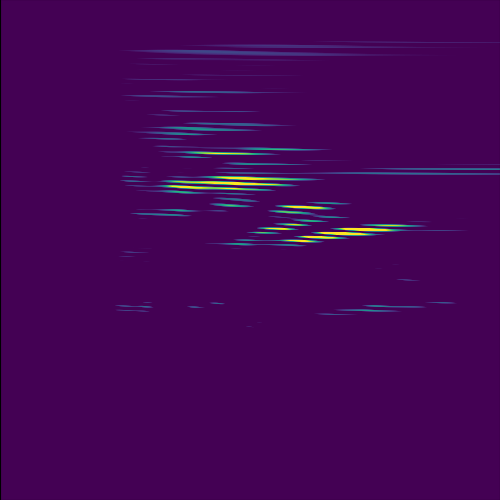semblance: (158, 169, 309, 197), (283, 222, 416, 249), (264, 197, 340, 232)
